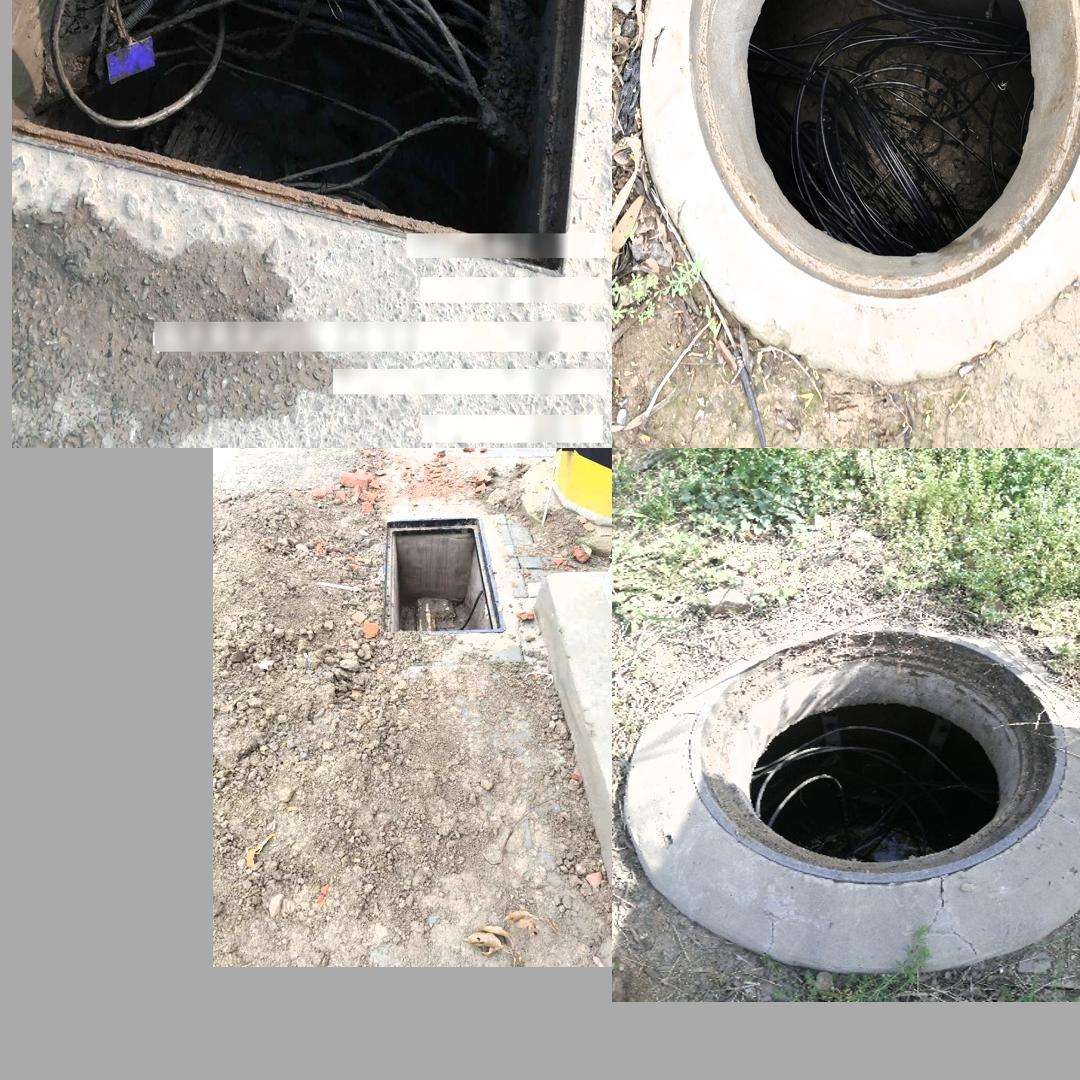lose: (634, 0, 1080, 388), (13, 0, 603, 175), (687, 623, 1066, 883), (351, 504, 526, 672)
